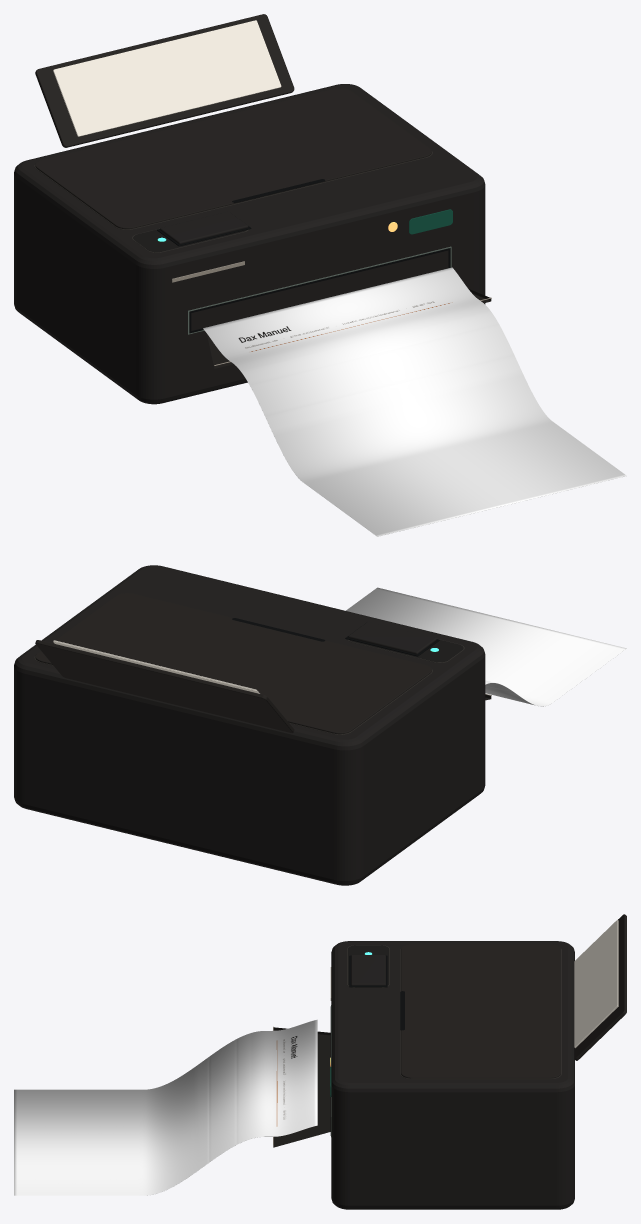
File: printer.glb
3 views of the same model, one above another, from view 1: azimuth 30°, elevation 25°; view 2: azimuth 150°, elevation 25°; view 3: azimuth 270°, elevation 25° (orthographic). The views are drawn at different scales.
Visible parts, largest first — view 1: Shared_Resume_Prop_Printer.Body, Resume_Static_TraySheet, Shared_Resume_Prop_Printer.RearSupport, Shared_Resume_Prop_Printer.PaperSheet, Shared_Resume_Prop_Printer.Foot_00, Shared_Resume_Prop_Printer.ControlStrip, Shared_Resume_Prop_Printer.ControlGroove, Shared_Resume_Prop_Printer.MiniDisplay; view 2: Shared_Resume_Prop_Printer.Body, Shared_Resume_Prop_Printer.RearSupport, Resume_Static_TraySheet, Shared_Resume_Prop_Printer.ControlStrip, Shared_Resume_Prop_Printer.PaperStack, Shared_Resume_Prop_Printer.Foot_00; view 3: Shared_Resume_Prop_Printer.Body, Resume_Static_TraySheet, Shared_Resume_Prop_Printer.RearSupport, Shared_Resume_Prop_Printer.PaperSheet, Shared_Resume_Prop_Printer.OutputTray, Shared_Resume_Prop_Printer.ControlGroove, Shared_Resume_Prop_Printer.ControlStrip, Shared_Resume_Prop_Printer.Foot_00.
Boxes of the visible parts, left/top/right/bottom form: Shared_Resume_Prop_Printer.Body: left=14, top=84, right=485, bottom=404; Resume_Static_TraySheet: left=203, top=267, right=626, bottom=536; Shared_Resume_Prop_Printer.RearSupport: left=35, top=14, right=431, bottom=229; Shared_Resume_Prop_Printer.PaperSheet: left=53, top=20, right=281, bottom=136; Shared_Resume_Prop_Printer.Foot_00: left=157, top=179, right=450, bottom=333; Shared_Resume_Prop_Printer.ControlStrip: left=133, top=229, right=247, bottom=252; Shared_Resume_Prop_Printer.ControlGroove: left=34, top=151, right=432, bottom=252; Shared_Resume_Prop_Printer.MiniDisplay: left=409, top=209, right=452, bottom=234; Shared_Resume_Prop_Printer.Body: left=14, top=565, right=485, bottom=885; Shared_Resume_Prop_Printer.RearSupport: left=35, top=593, right=431, bottom=734; Resume_Static_TraySheet: left=346, top=587, right=626, bottom=706; Shared_Resume_Prop_Printer.ControlStrip: left=349, top=640, right=463, bottom=662; Shared_Resume_Prop_Printer.PaperStack: left=53, top=641, right=258, bottom=693; Shared_Resume_Prop_Printer.Foot_00: left=232, top=618, right=439, bottom=656; Shared_Resume_Prop_Printer.Body: left=331, top=941, right=574, bottom=1209; Resume_Static_TraySheet: left=14, top=1019, right=317, bottom=1195; Shared_Resume_Prop_Printer.RearSupport: left=401, top=914, right=626, bottom=1078; Shared_Resume_Prop_Printer.PaperSheet: left=574, top=919, right=617, bottom=1047; Shared_Resume_Prop_Printer.OutputTray: left=273, top=1027, right=330, bottom=1147; Shared_Resume_Prop_Printer.ControlGroove: left=347, top=945, right=561, bottom=1079; Shared_Resume_Prop_Printer.ControlStrip: left=347, top=945, right=389, bottom=987; Shared_Resume_Prop_Printer.Foot_00: left=330, top=955, right=404, bottom=1135.
Size of the model in its own units: 0.3 by 0.1727 by 0.5282.
14 materials, 1 textured.
